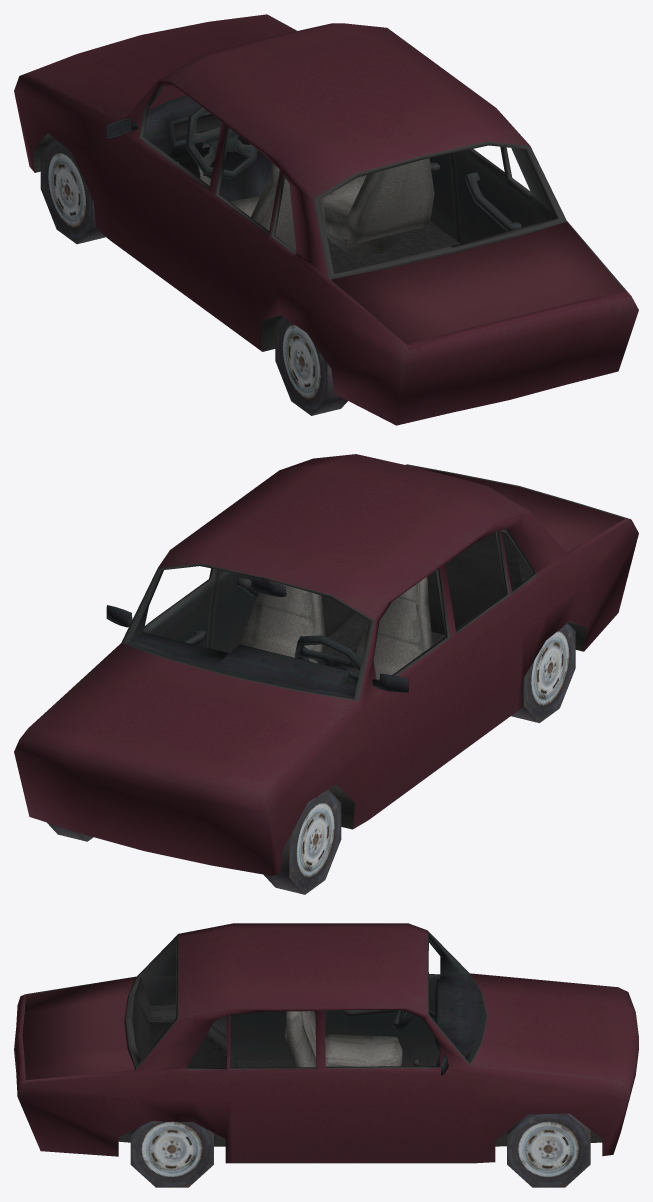
File: zhiguli.fbx
The picture shows the model from 3 angles, top to bottom: view 1: azimuth 30°, elevation 25°; view 2: azimuth 150°, elevation 25°; view 3: azimuth 270°, elevation 25°; orthographic projection. The views are drawn at different scales.
Parts seen in each view (by area): view 1: quzov, bagazniq, sidenne_left, qoleso_bottom_right.001, qoleso_bottom_right.003, sidenne_right, rul, ruchka_right.001; view 2: quzov, qoleso_bottom_right.003, sidenne_left, sidenne_right, bagazniq, qoleso_bottom_right.001, rul; view 3: quzov, bagazniq, qoleso_bottom_right.002, qoleso_bottom_right, sidenne_right, sidenne_left.
Part boxes in pixels (x1,y1,x2,y2): quzov: [14, 14, 638, 425]; bagazniq: [331, 221, 624, 344]; sidenne_left: [322, 158, 434, 254]; qoleso_bottom_right.001: [275, 316, 347, 415]; qoleso_bottom_right.003: [40, 138, 105, 244]; sidenne_right: [229, 162, 325, 250]; rul: [185, 106, 257, 178]; ruchka_right.001: [464, 172, 521, 231]; quzov: [14, 454, 638, 875]; qoleso_bottom_right.003: [264, 789, 341, 894]; sidenne_left: [229, 579, 325, 663]; sidenne_right: [349, 577, 432, 680]; bagazniq: [407, 465, 625, 552]; qoleso_bottom_right.001: [511, 623, 575, 722]; rul: [294, 635, 361, 684]; quzov: [14, 923, 638, 1163]; bagazniq: [22, 977, 134, 1080]; qoleso_bottom_right.002: [507, 1113, 590, 1187]; qoleso_bottom_right: [130, 1121, 213, 1187]; sidenne_right: [301, 1011, 402, 1066]; sidenne_left: [285, 1011, 315, 1067].
Bounding box in the file's own units: 1.45 × 3.24 × 1.07.
11 materials, 11 textured.
